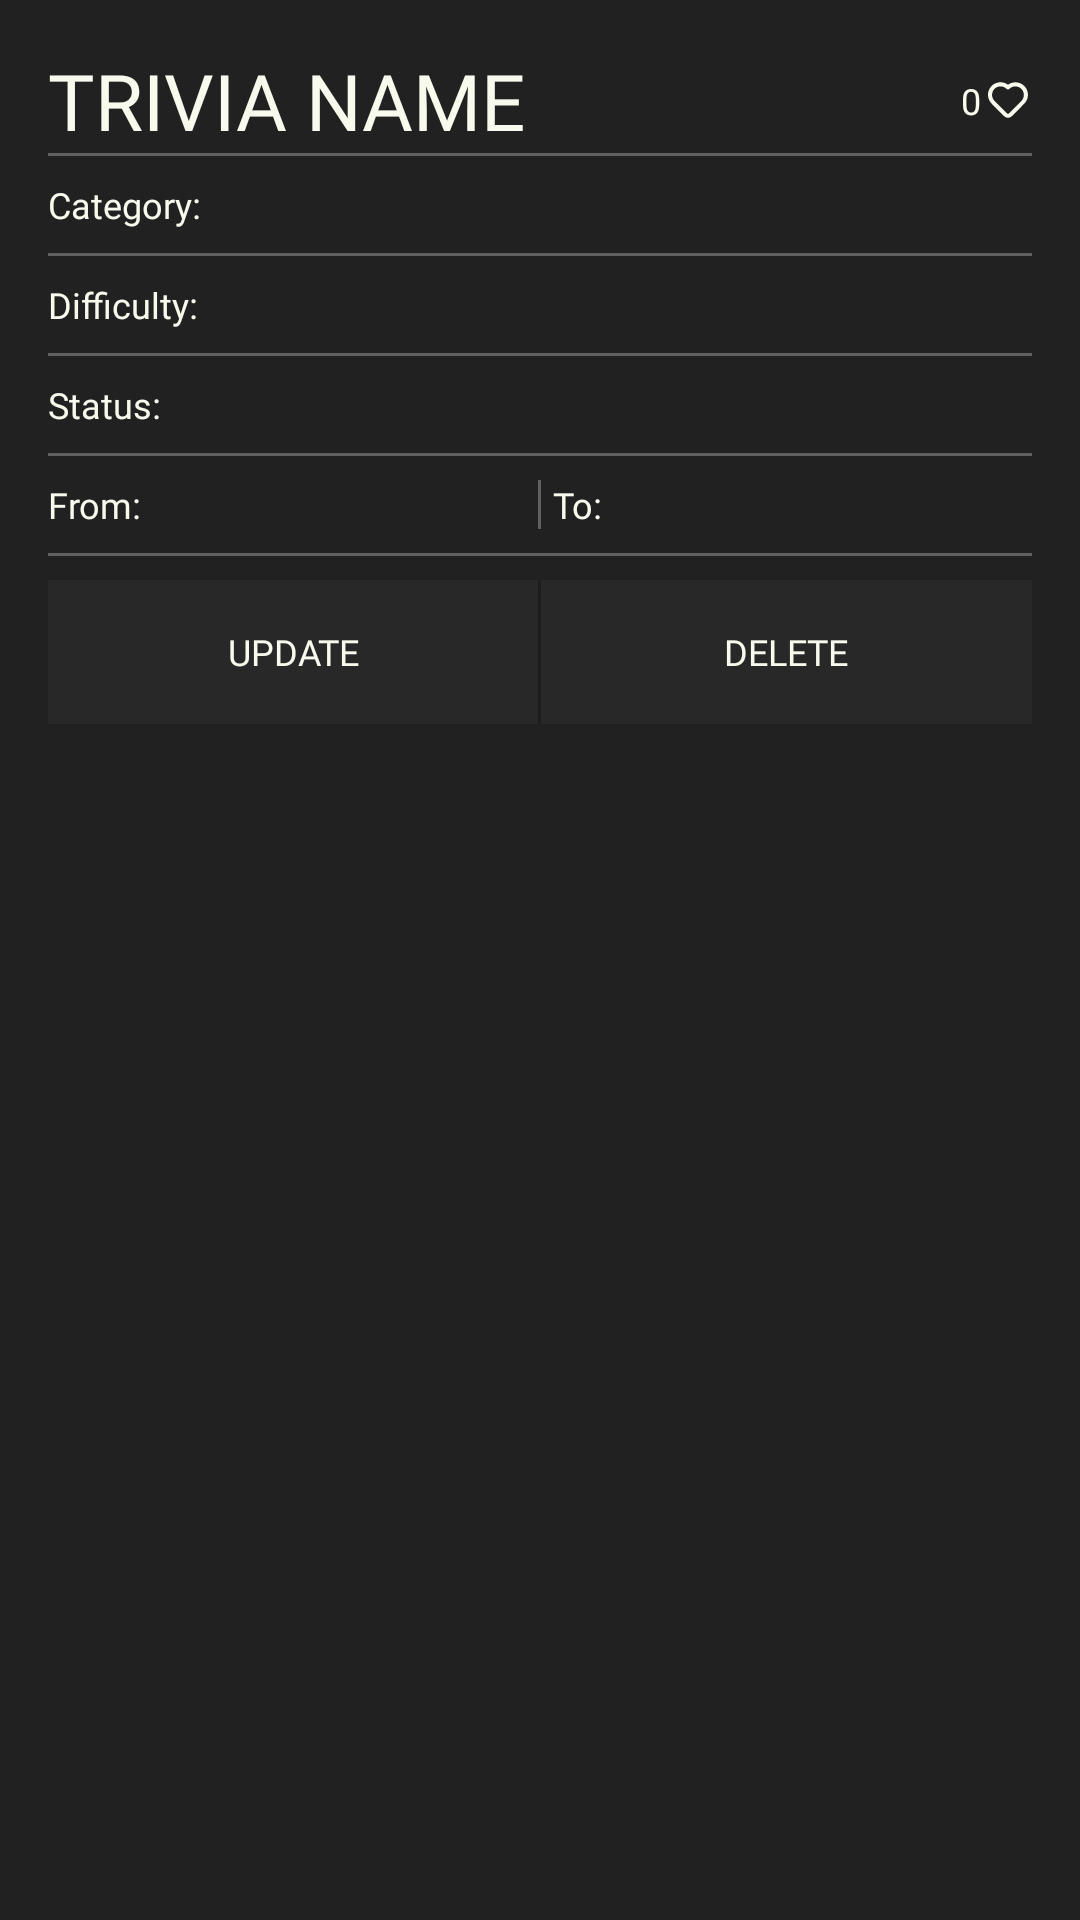

Named icons in this screenshot (1080×1920) and their bounding boxes, Rect(x1, y1, x2, y2):
heart: Rect(988, 82, 1028, 118)
